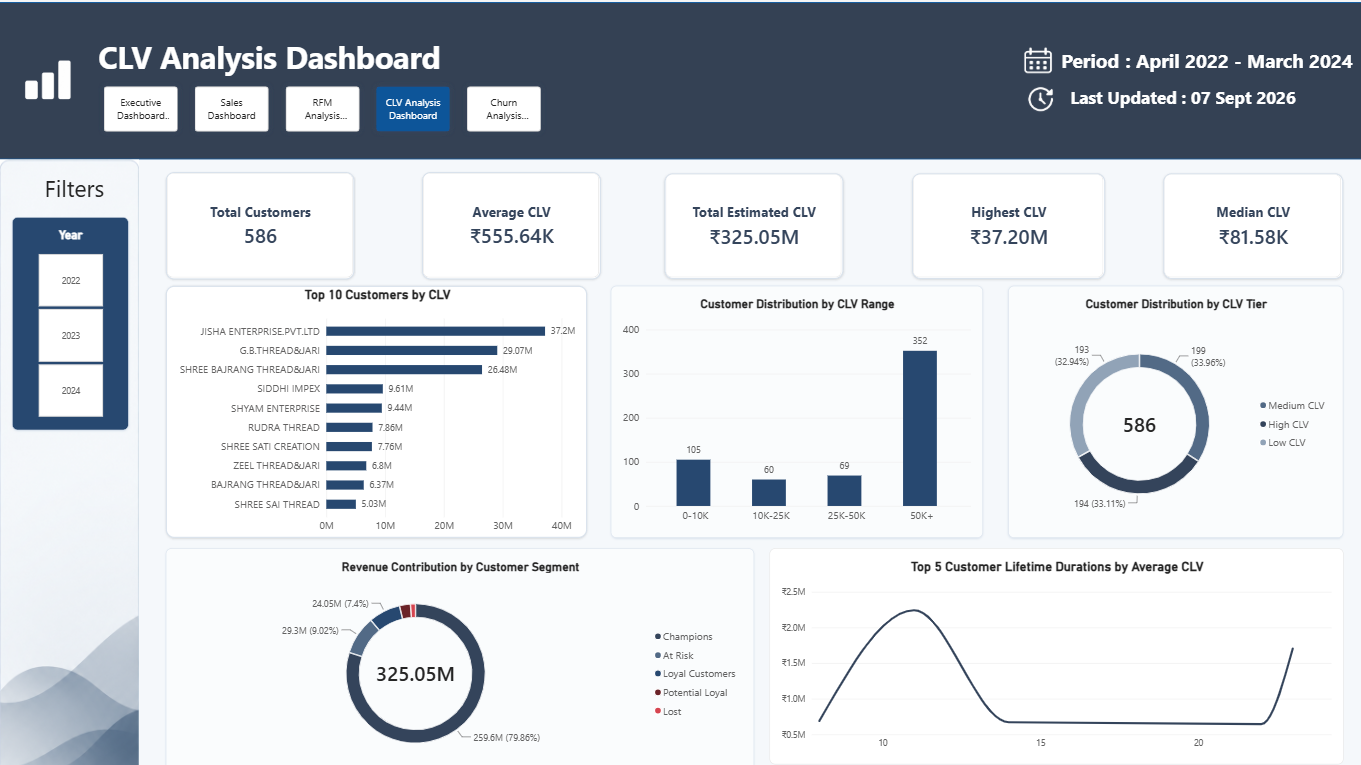

The dashboard page shown, as its layout file describes it:
{"tool":"powerbi","page":{"name":"CLV Analysis Dashboard","canvas":[1920,1080],"ordinal":3},"visuals":[{"type":"shape","box":[0,0,1920.4,220.2],"z":0},{"type":"textbox","box":[142,48,616,70],"z":1000},{"type":"image","box":[0,220,200,860],"z":2000},{"type":"cardVisual","fields":{"Data":["CLVTable.CLV Total Customers"]},"box":[235.3,237.1,264,150],"z":3000},{"type":"cardVisual","fields":{"Data":["CLVTable.Average CLV"]},"box":[595.4,237.1,250,150],"z":4000},{"type":"cardVisual","fields":{"Data":["CLVTable.Highest CLV"]},"box":[1279.4,238.9,270,148.3],"z":5000},{"type":"cardVisual","fields":{"Data":["CLVTable.Median CLV"]},"box":[1632.3,238.9,251.7,148.3],"z":6000},{"type":"cardVisual","fields":{"Data":["CLVTable.Total Estimated CLV"]},"box":[933.8,238.9,250,148],"z":7000},{"type":"clusteredBarChart","title":"Top 10 Customers by CLV","fields":{"Category":["CLVTable.Customer Name"],"Y":["Sum(CLVTable.Estimated CLV)"]},"box":[235.3,396.3,589.9,352.9],"z":8000},{"type":"clusteredColumnChart","title":"Customer Distribution by CLV Range","fields":{"Category":["CLVTable.CLV Band"],"Y":["CLVTable.CLV Total Customers"]},"box":[857.8,396.3,521.2,352.9],"z":9000},{"type":"donutChart","title":"Customer Distribution by CLV Tier","fields":{"Category":["CLVTable.CLV Tier"],"Y":["CLVTable.CLV Total Customers"]},"box":[1415.2,396.3,468.7,352.9],"z":10000},{"type":"donutChart","title":"Revenue Contribution by Customer Segment","fields":{"Category":["RFMTable.Segment"],"Y":["Sheet1.Total Sales"]},"box":[235.3,763.7,823.4,316.7],"z":11000},{"type":"textbox","box":[22,238,140,44],"z":12000},{"type":"slicer","title":"Year","fields":{"Values":["CLVTable.CLV Year"]},"box":[21.7,300.4,162.9,298.6],"z":13000},{"type":"image","box":[1416,48,80,70],"z":14000},{"type":"textbox","box":[1474,58,432,52],"z":15000},{"type":"image","box":[0,30,142,160],"z":16000},{"type":"textbox","box":[1496,118,362,44],"z":17000},{"type":"image","box":[1426,110,70,52],"z":18000},{"type":"lineChart","title":"Top 5 Customer Lifetime Durations by Average CLV","fields":{"Category":["CLVTable.Customer Lifetime Months"],"Y":["CLVTable.Average CLV"]},"box":[1080.4,763.7,803.5,302.2],"z":19000},{"type":"pageNavigator","box":[141.2,110.4,631.6,79.6],"z":20000}]}

Visuals, with their boxes in screenshot pixels (x1, y1, x2, y2), scaled from the page's 1920x1080 canvas onto the 1361x765 screenshot:
shape: 0:0:1360:156
textbox: 101:34:537:84
image: 0:156:142:764
cardVisual - CLVTable.CLV Total Customers: 167:168:354:274
cardVisual - CLVTable.Average CLV: 422:168:599:274
cardVisual - CLVTable.Highest CLV: 907:169:1098:274
cardVisual - CLVTable.Median CLV: 1157:169:1335:274
cardVisual - CLVTable.Total Estimated CLV: 662:169:839:274
"Top 10 Customers by CLV" clusteredBarChart: 167:281:585:531
"Customer Distribution by CLV Range" clusteredColumnChart: 608:281:978:531
"Customer Distribution by CLV Tier" donutChart: 1003:281:1335:531
"Revenue Contribution by Customer Segment" donutChart: 167:541:750:764
textbox: 16:169:115:200
"Year" slicer: 15:213:131:424
image: 1004:34:1060:84
textbox: 1045:41:1351:78
image: 0:21:101:135
textbox: 1060:84:1317:115
image: 1011:78:1060:115
"Top 5 Customer Lifetime Durations by Average CLV" lineChart: 766:541:1335:755
pageNavigator: 100:78:548:135
